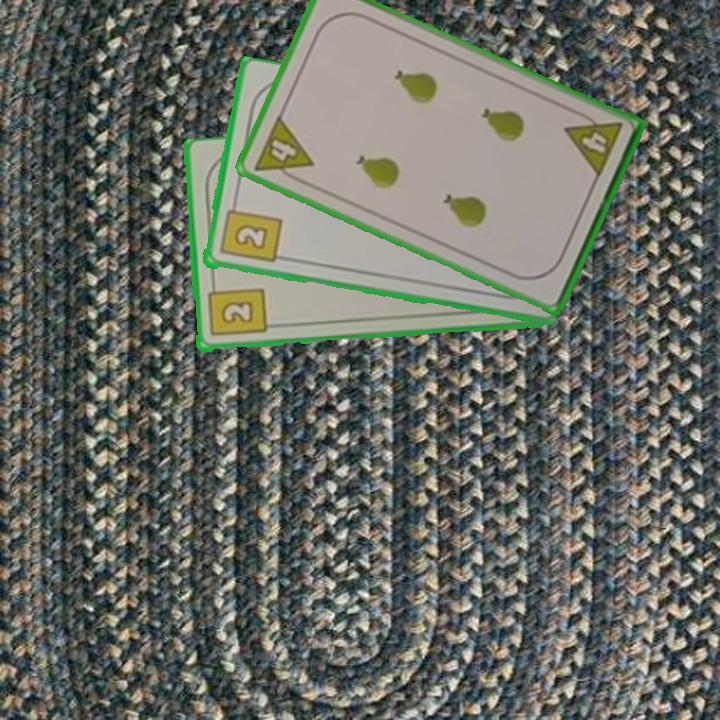2b: (216, 197, 283, 266), (204, 279, 268, 340)
4p: (249, 112, 317, 188), (561, 106, 625, 181)
